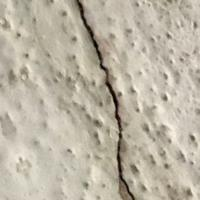crack: (62, 0, 143, 199)
